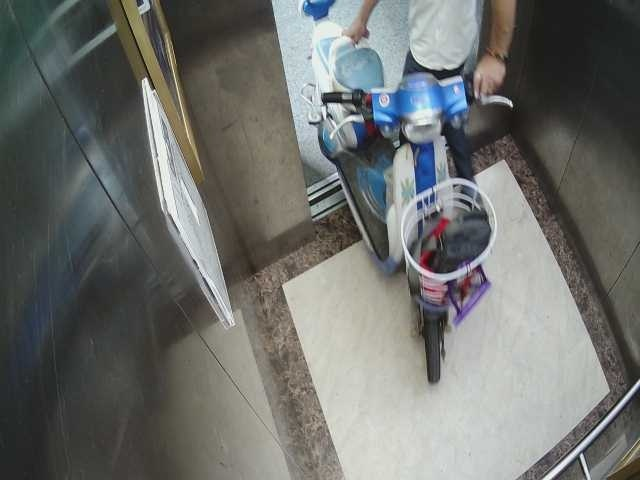emotor: (292, 2, 494, 381)
